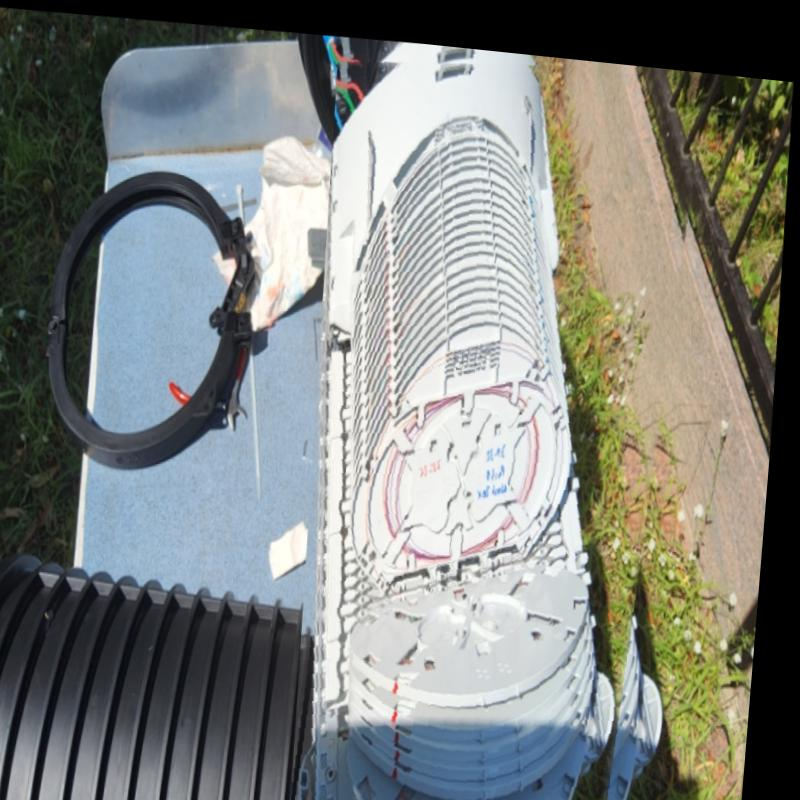NT-Muffen: (330, 49, 640, 800)
